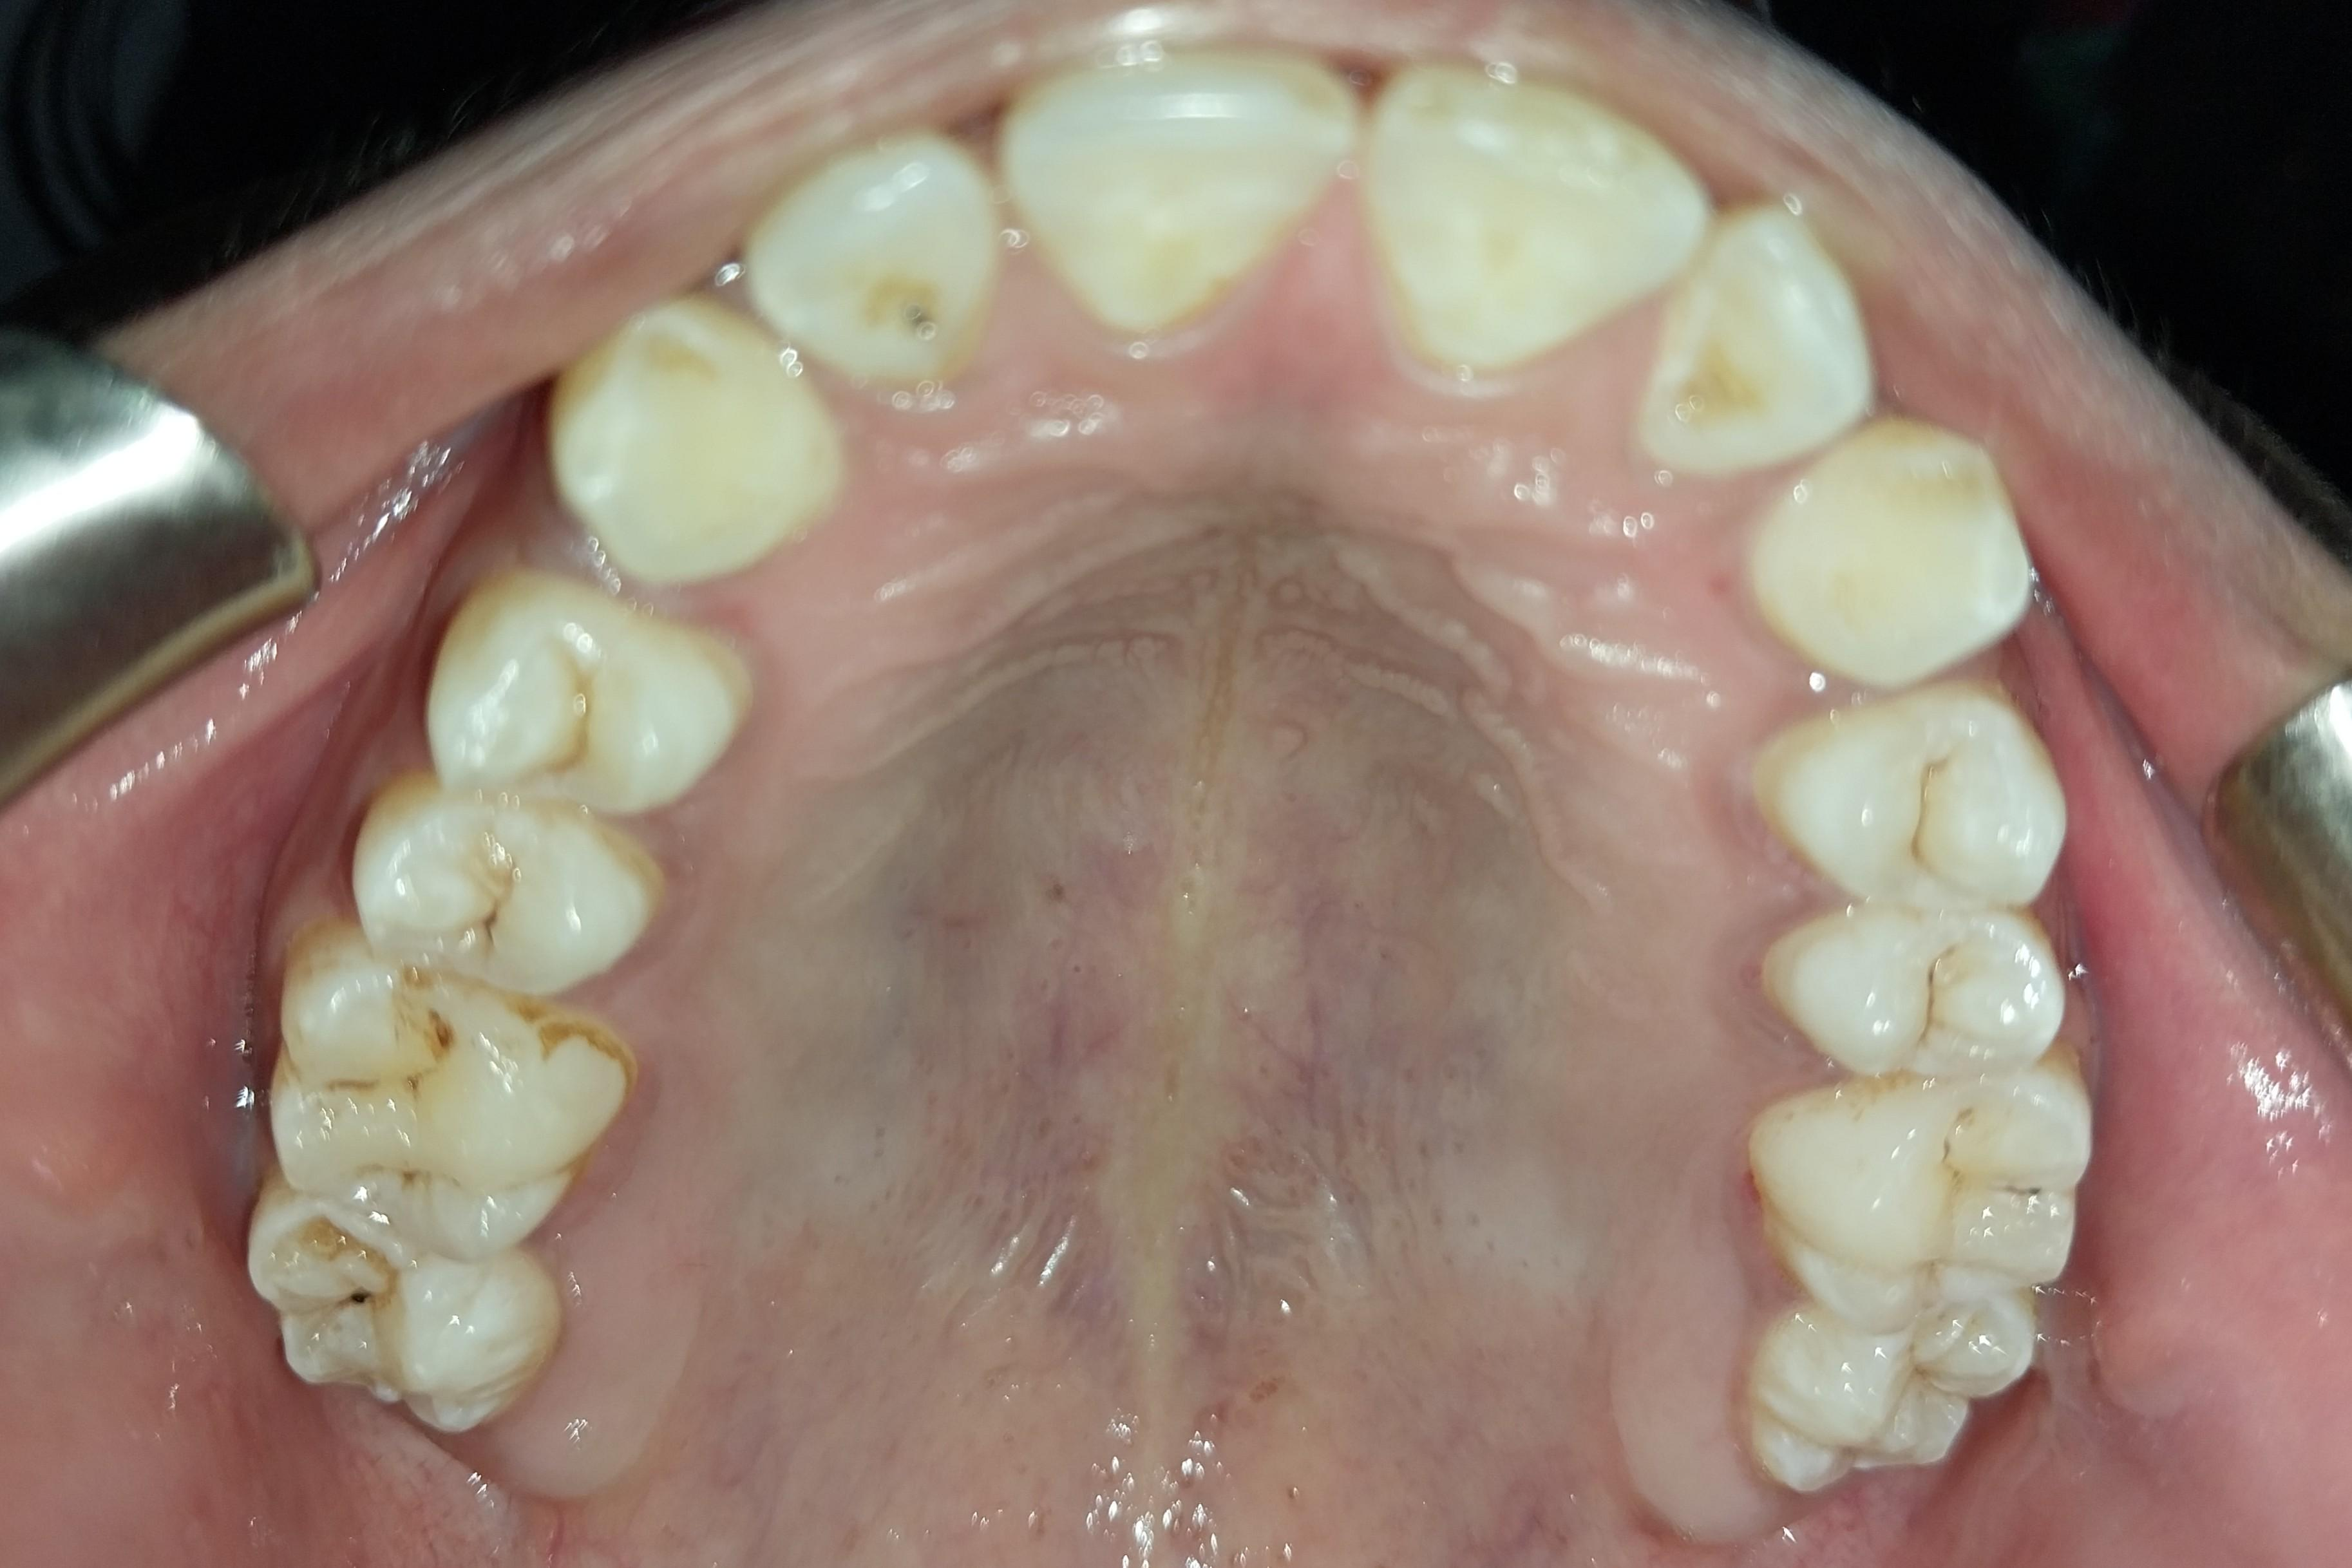D: (1754, 1080, 2094, 1332), (243, 1181, 554, 1428), (751, 131, 1003, 408), (350, 797, 664, 983)
